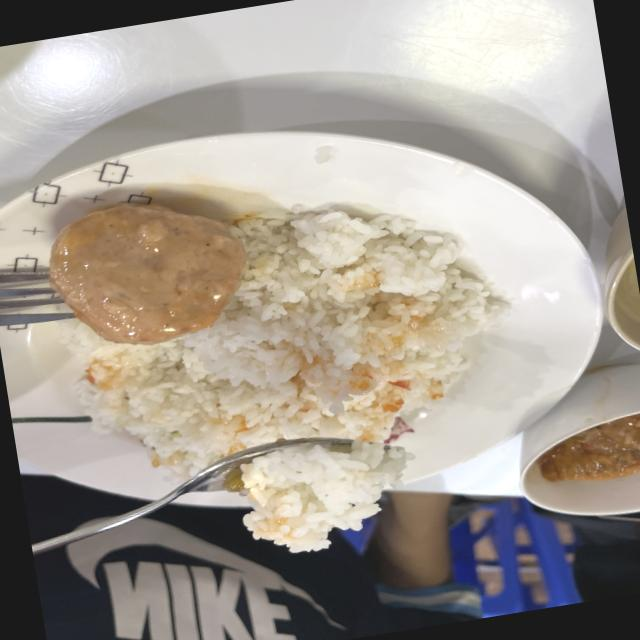com: (63, 211, 509, 477), (241, 441, 411, 552)
kho trung: (49, 205, 247, 344)
